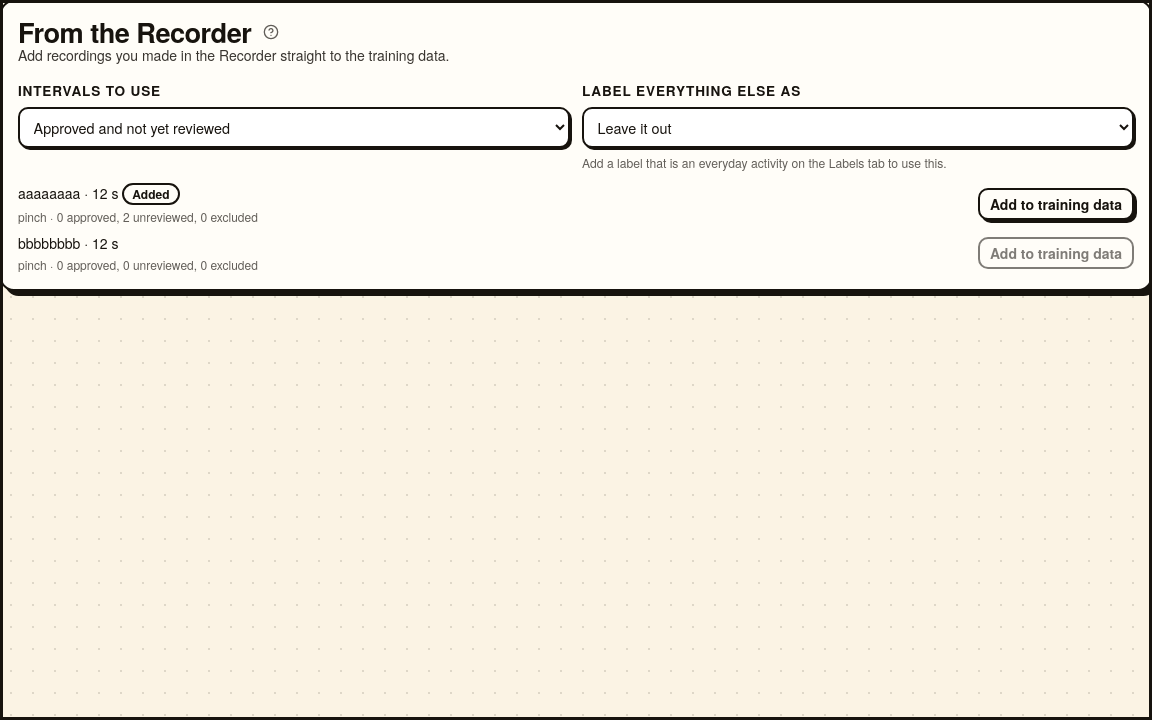
it: RecorderRecordings › disables an unreviewed-only recording when only approved intervals are allowed, and marks recordings already added
Check: the icon "Added" is shown, box [122,183,180,205]
Select "Approved only" in the dropdown labelled "Intervals to use". click: [294, 128]
box: [18,107,570,148]
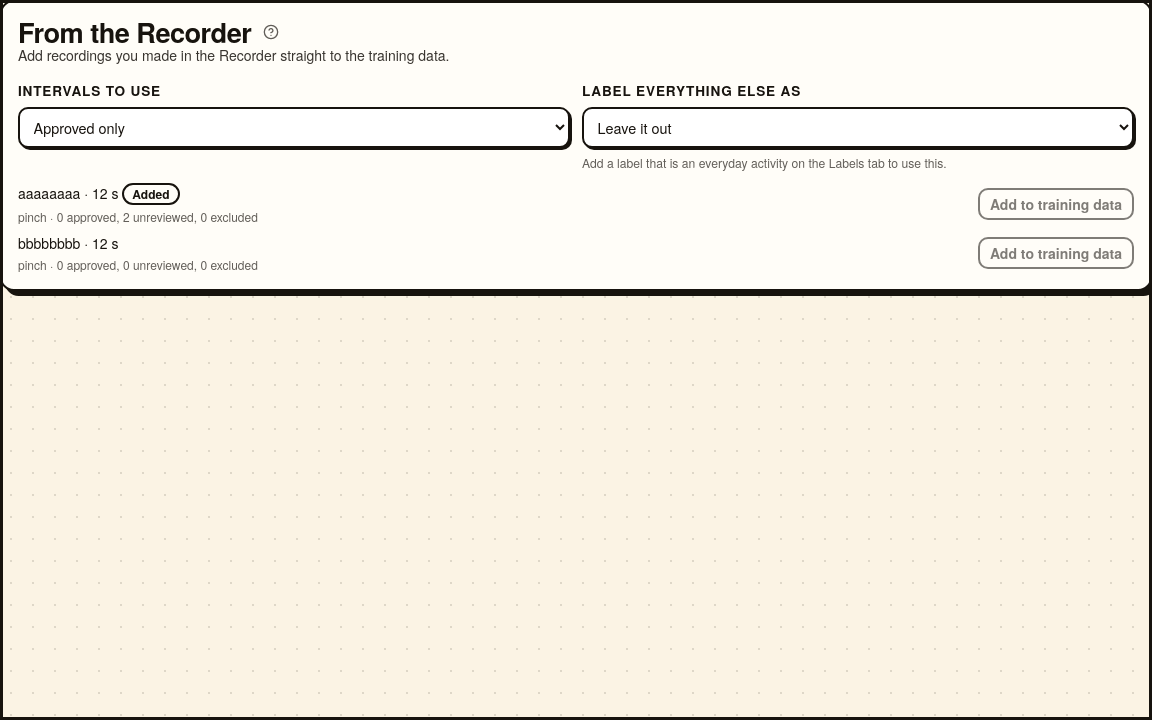
Check: the button "Add to training data" in the row of "aaaaaaaa" is disabled, box [978,188,1134,220]
